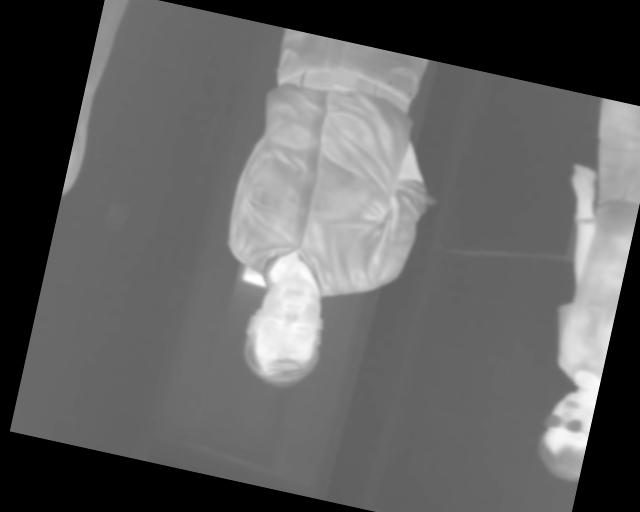face: (235, 264, 338, 395), (533, 385, 596, 483)
